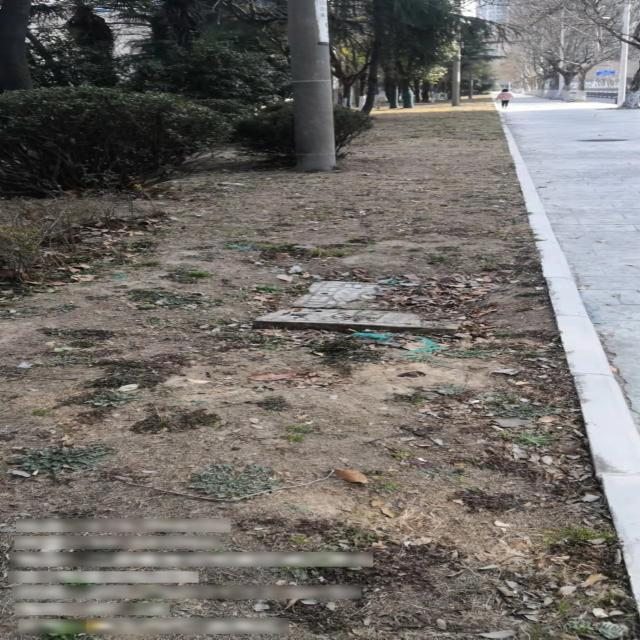Faulty: (247, 278, 469, 330)
